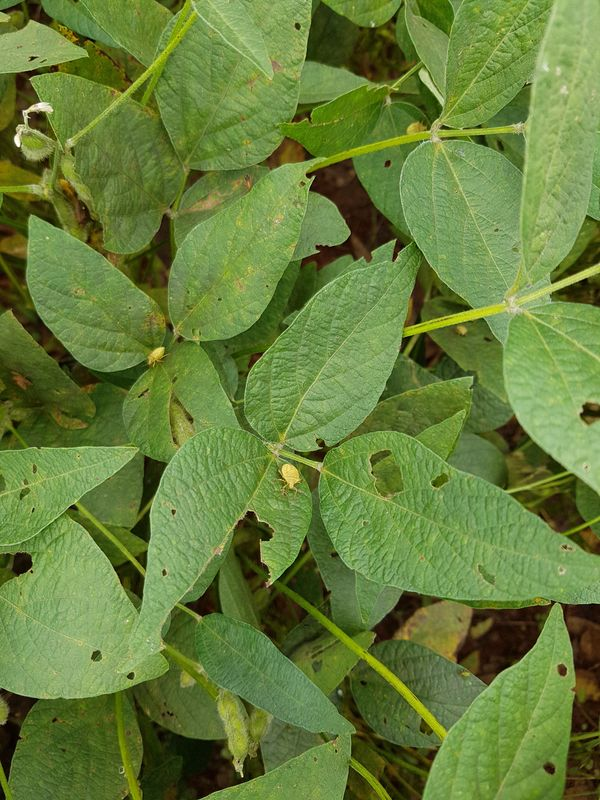Euschistus_heros_ninfa: (269, 461, 307, 499), (140, 342, 173, 369), (403, 118, 431, 139)
